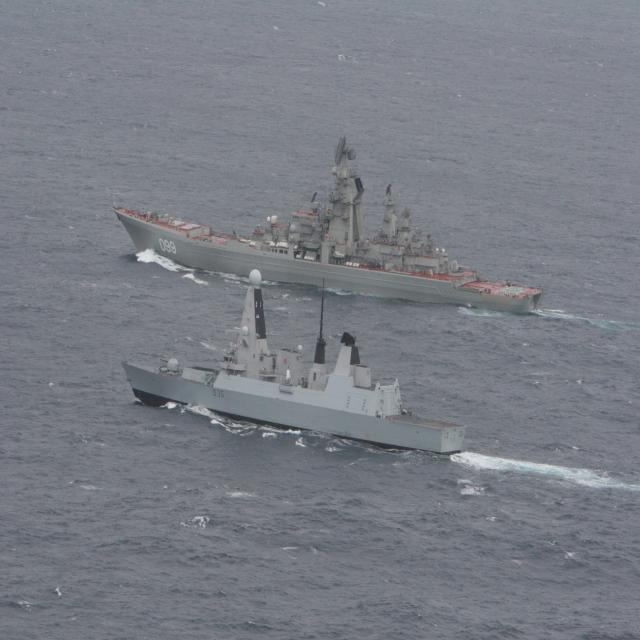navalvessels: (116, 112, 554, 328), (98, 240, 473, 456)
